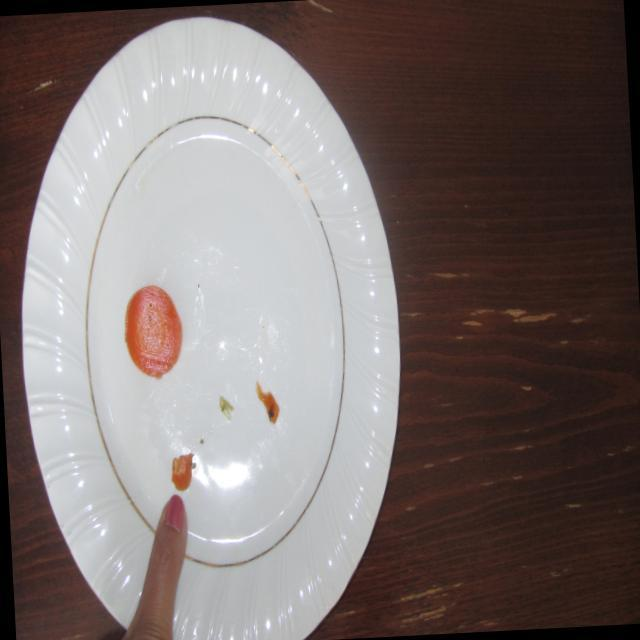Carrot: (116, 276, 191, 391)
Finger: (147, 492, 197, 588)
